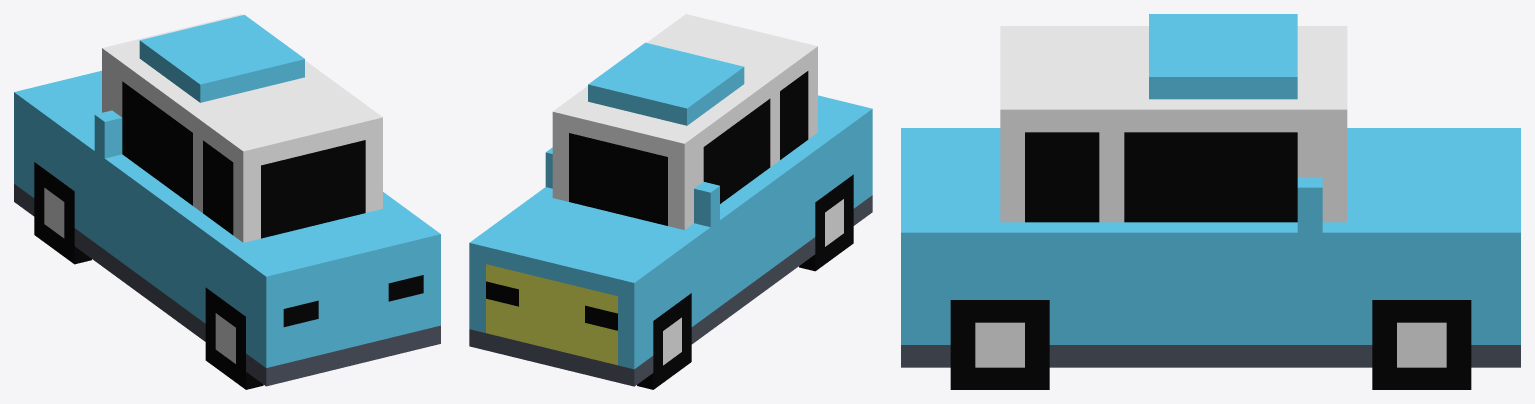
The model's file is carone.obj.
3 views of the same model, side by side, from view 1: azimuth 30°, elevation 25°; view 2: azimuth 150°, elevation 25°; view 3: azimuth 270°, elevation 25° (orthographic). The views are drawn at different scales.
Size of the model in its own units: 10 by 13 by 25.
